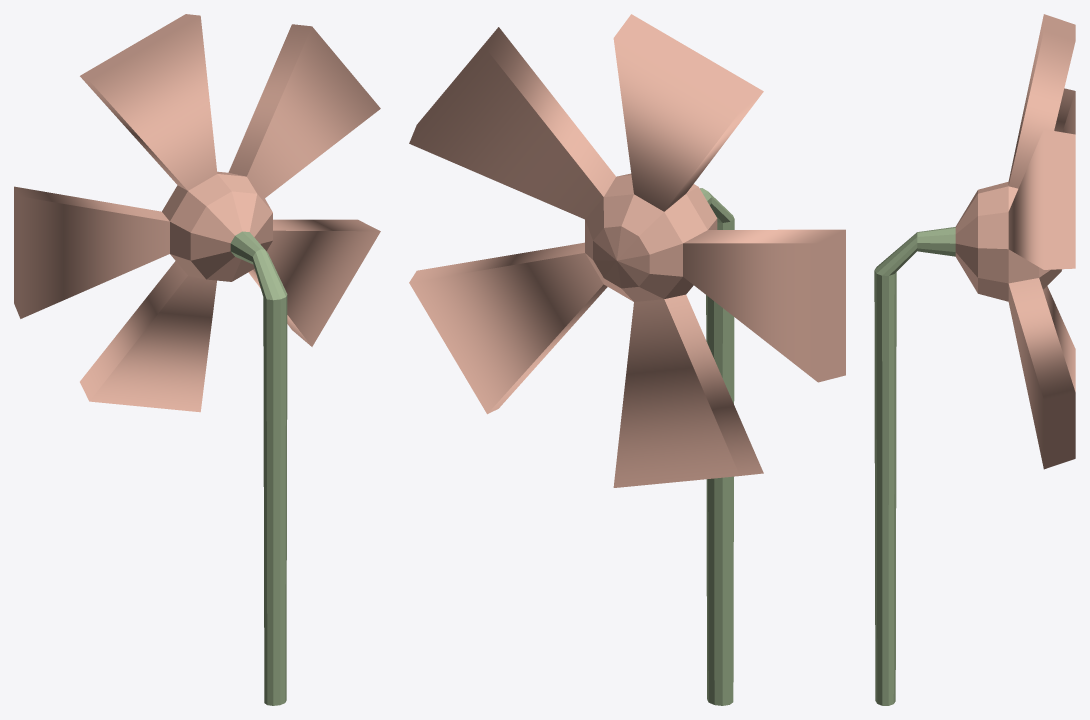
Rendered from geo_flower_05.fbx.
3 renders of one model, left to right at view 1: azimuth 30°, elevation 25°; view 2: azimuth 150°, elevation 25°; view 3: azimuth 270°, elevation 25°, orthographic. The views are drawn at different scales.
Parts seen in each view (by area): view 1: geo_plantShrub_09; view 2: geo_plantShrub_09; view 3: geo_plantShrub_09.
Boxes of the visible parts, x1,y1,x2,y2 form: geo_plantShrub_09: (14, 14, 380, 705); geo_plantShrub_09: (409, 14, 845, 705); geo_plantShrub_09: (874, 14, 1075, 705).
Bounding box in the file's own units: 11.24 × 18.82 × 5.12.
